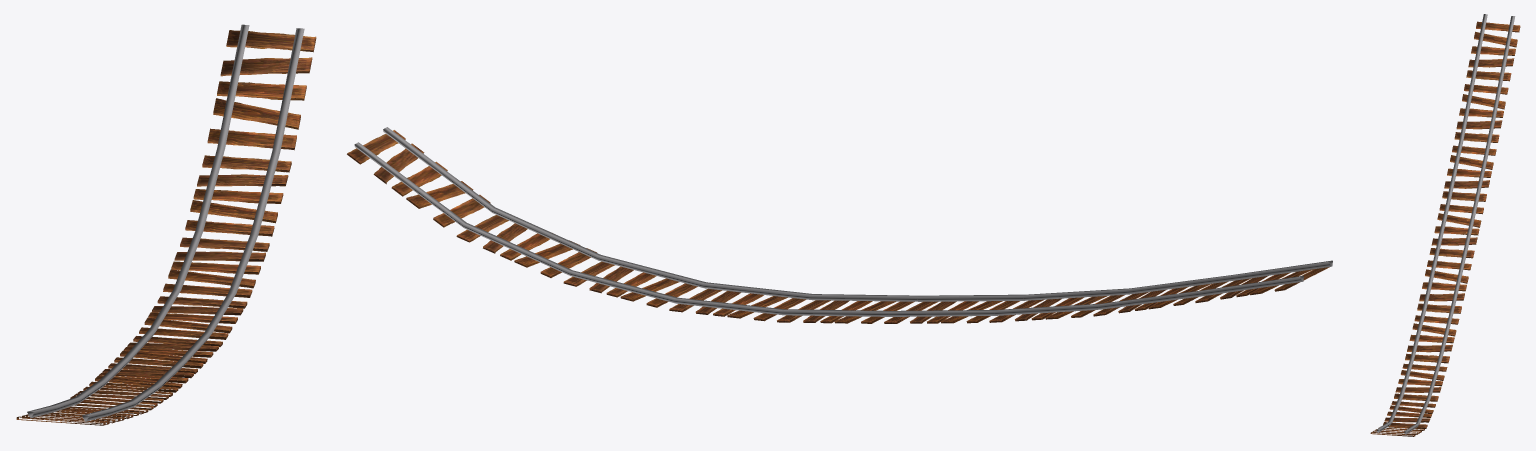
Rendered from SWORDLIGHT20_TRACK8.fbx.
3 views of the same model, side by side, from view 1: azimuth 90°, elevation 25°; view 2: azimuth 150°, elevation 25°; view 3: azimuth 270°, elevation 25° (orthographic). The views are drawn at different scales.
Parts seen in each view (by area): view 1: SWORDLIGHT20_TRACK8; view 2: SWORDLIGHT20_TRACK8; view 3: SWORDLIGHT20_TRACK8.
Part boxes in pixels (x1,y1,x2,y2): SWORDLIGHT20_TRACK8: (16,24,316,425); SWORDLIGHT20_TRACK8: (347,127,1332,323); SWORDLIGHT20_TRACK8: (1370,14,1520,436).
Size of the model in its own units: 269336 by 60937 by 55763.
Materials: 2 (2 with a texture image).
